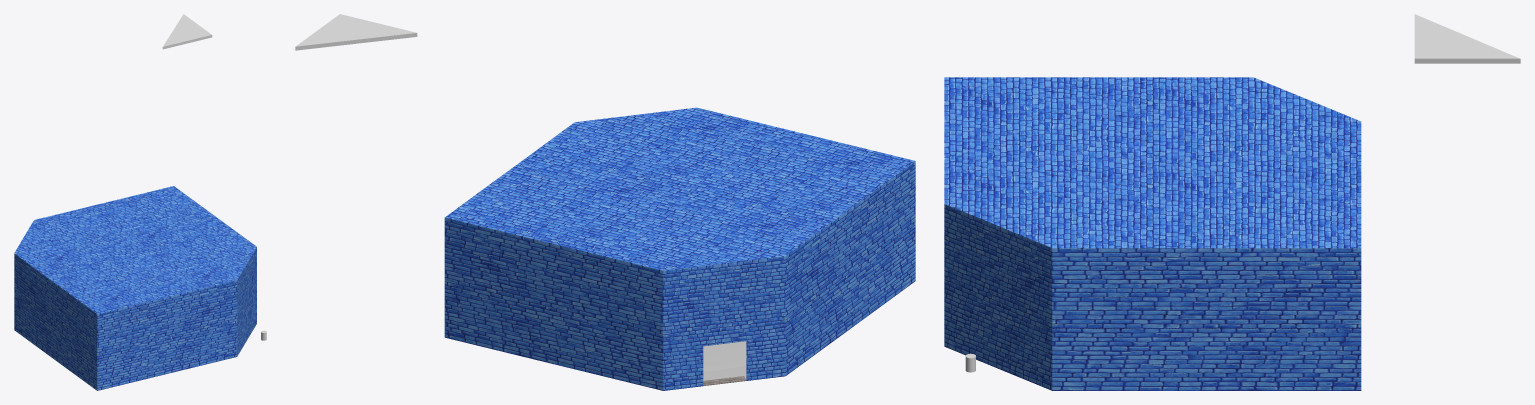
File: groundmapWithRooms.fbx
The picture shows the model from 3 angles, left to right: view 1: azimuth 30°, elevation 25°; view 2: azimuth 150°, elevation 25°; view 3: azimuth 270°, elevation 25°; orthographic projection. The views are drawn at different scales.
Parts seen in each view (by area): view 1: PenguinRoom, EXTRA; view 2: PenguinRoom, EXTRA; view 3: PenguinRoom, EXTRA.
Part boxes in pixels (<box>): PenguinRoom: <box>14,186,256,390</box>; EXTRA: <box>162,14,212,49</box>; PenguinRoom: <box>444,107,915,390</box>; EXTRA: <box>295,14,417,50</box>; PenguinRoom: <box>944,77,1361,390</box>; EXTRA: <box>1414,14,1520,63</box>.
Size of what is drawn, in the model's own units: 4932 by 4026 by 5490.
